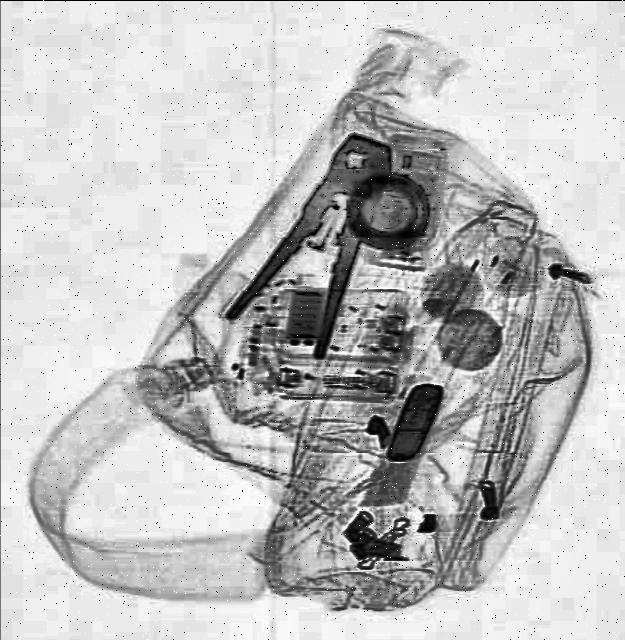Pliers: (220, 113, 418, 359)
